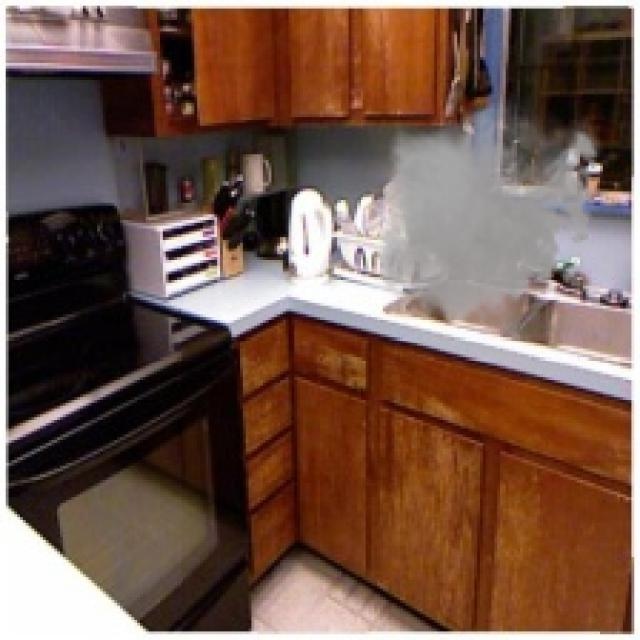smoke: (368, 91, 606, 332)
